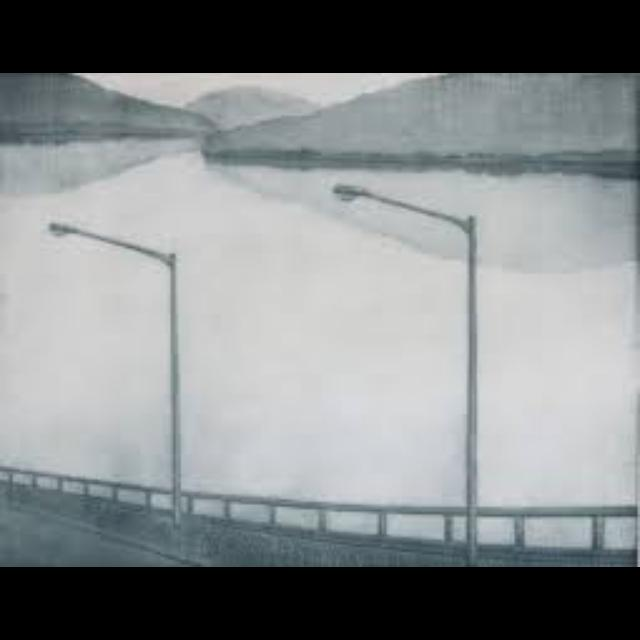Street-Lamp: (319, 155, 503, 567)
